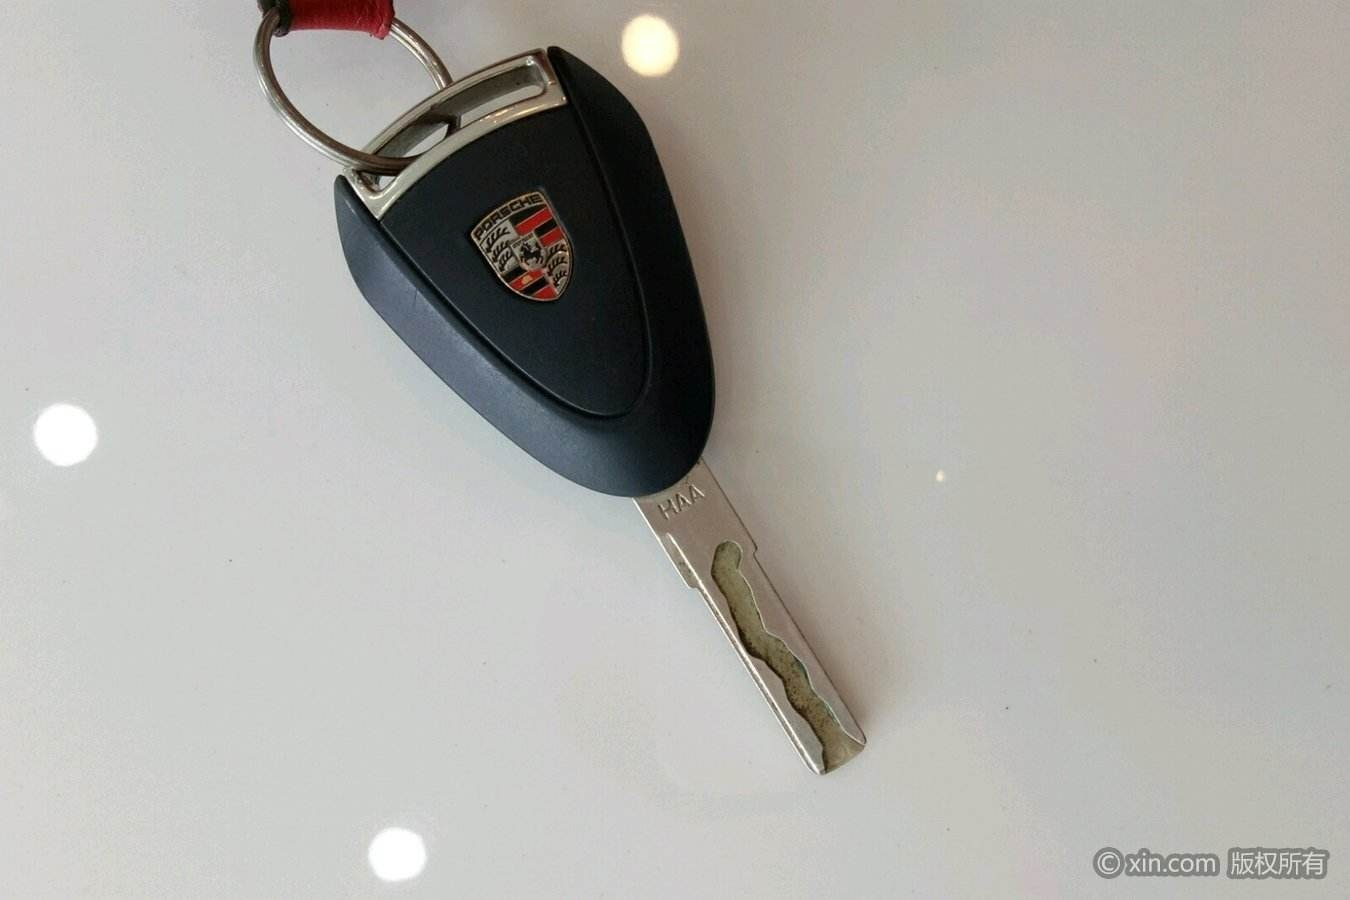key: (326, 36, 877, 785)
